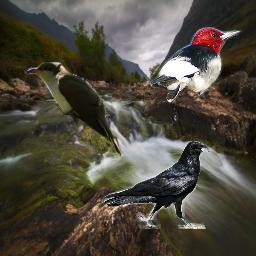Crow: (102, 141, 212, 229)
Cuckoo: (24, 62, 121, 159)
Woodpecker: (150, 27, 243, 104)
